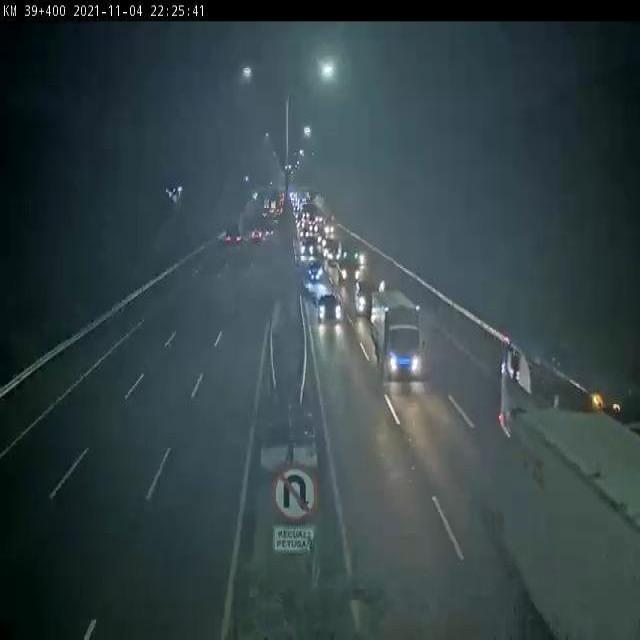bus-l-: (500, 328, 640, 439)
car: (349, 273, 380, 316), (334, 249, 362, 283), (302, 257, 330, 287), (317, 290, 339, 322)
truck-m-: (373, 289, 425, 384)
truck-xl-: (503, 416, 640, 640)
